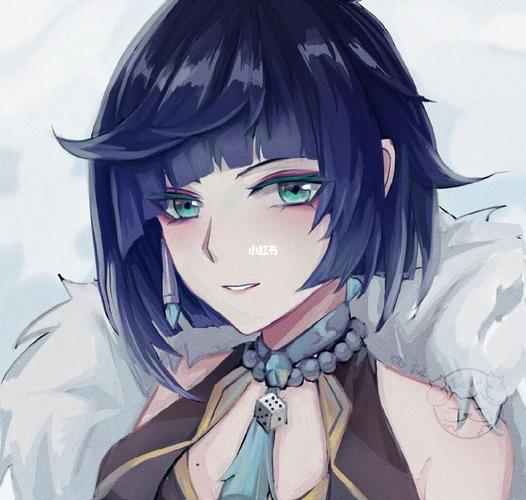夜兰: (80, 1, 518, 500)
